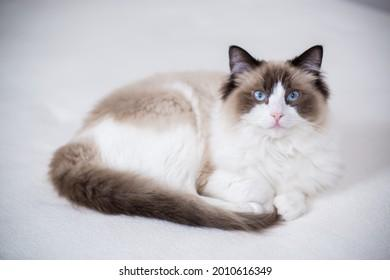ragdoll: (213, 29, 343, 163)
